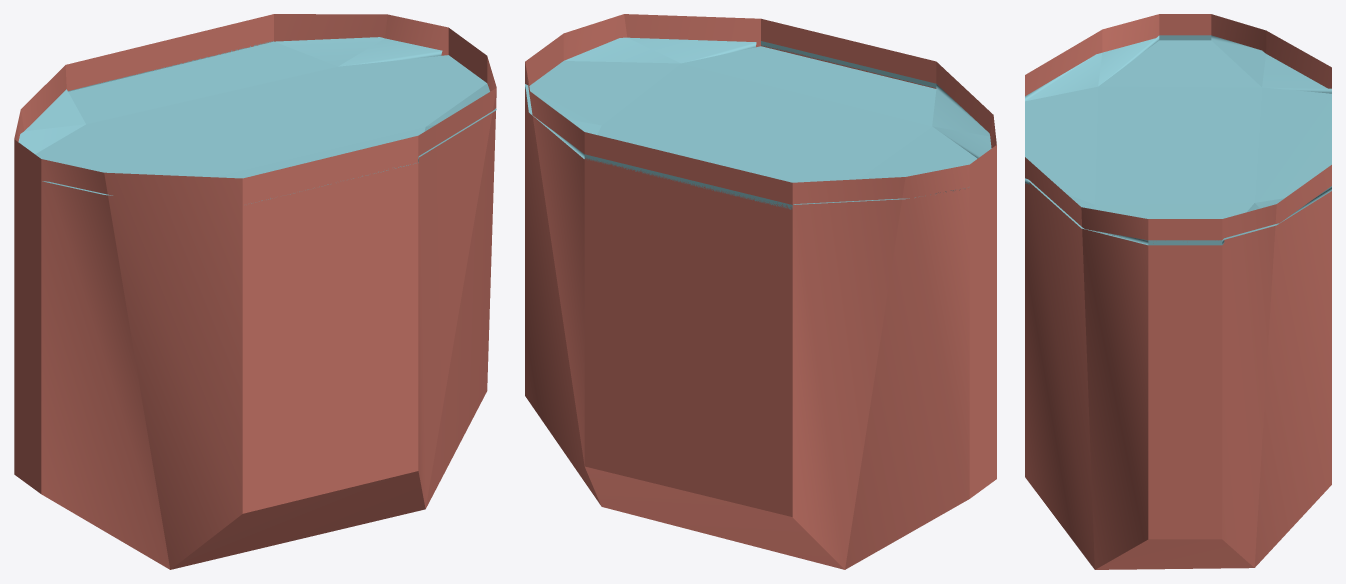
The model's file is awita.gltf.
3 renders of one model, left to right at view 1: azimuth 30°, elevation 25°; view 2: azimuth 150°, elevation 25°; view 3: azimuth 270°, elevation 25°, orthographic. The views are drawn at different scales.
Visible parts, largest first — view 1: cajits (×2); view 2: cajits (×2); view 3: cajits (×2).
Boxes of the visible parts, left/top/right/bottom form: cajits (×2): left=14, top=14, right=496, bottom=569; cajits (×2): left=525, top=14, right=996, bottom=569; cajits (×2): left=1025, top=14, right=1331, bottom=569.
Size of the model in its own units: 0.1964 by 0.1753 by 0.1241.
